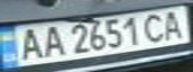1: (121, 13, 145, 46)
2: (66, 21, 90, 55)
5: (103, 16, 127, 48)
6: (87, 18, 109, 52)
A: (12, 26, 48, 61), (157, 8, 190, 41), (39, 24, 66, 57)
C: (139, 11, 172, 43)
